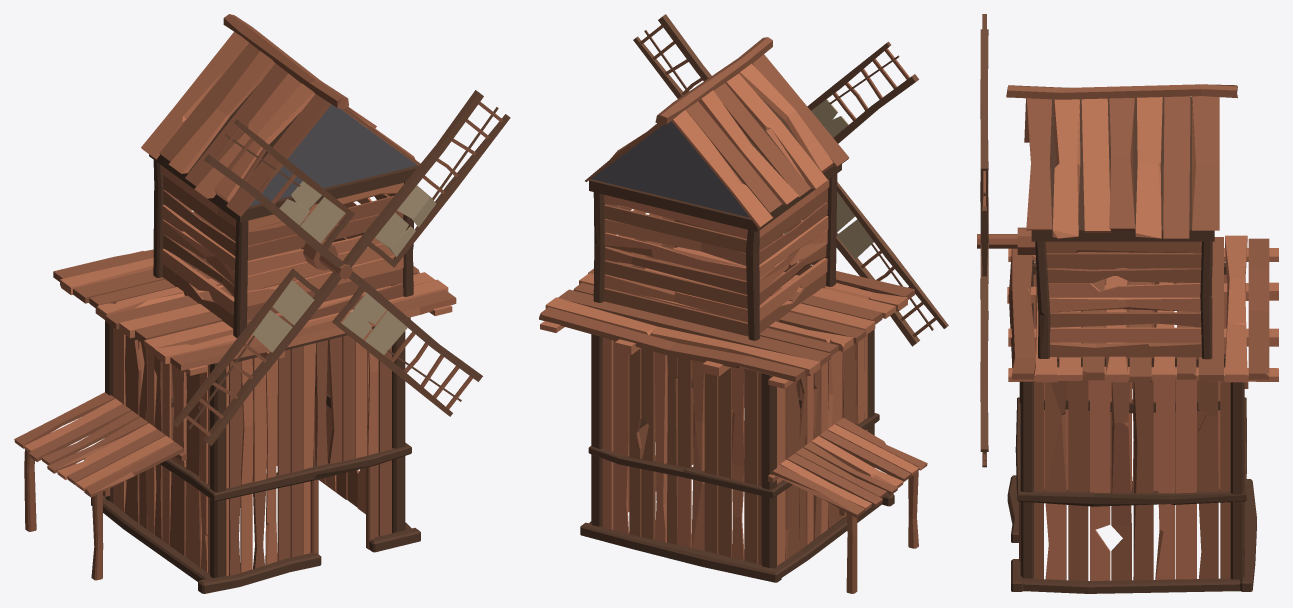
Rendered from Windmill.fbx.
3 views of the same model, side by side, from view 1: azimuth 30°, elevation 25°; view 2: azimuth 150°, elevation 25°; view 3: azimuth 270°, elevation 25° (orthographic). The views are drawn at different scales.
Visible parts, largest first — view 1: Windmill, Windmill Turbine; view 2: Windmill, Windmill Turbine; view 3: Windmill, Windmill Turbine.
Part boxes in pixels (bbox=[...]): Windmill: bbox=[14, 14, 456, 593]; Windmill Turbine: bbox=[172, 90, 510, 446]; Windmill: bbox=[539, 37, 927, 593]; Windmill Turbine: bbox=[633, 14, 948, 346]; Windmill: bbox=[1006, 84, 1278, 593]; Windmill Turbine: bbox=[977, 14, 1035, 467].
Bounding box in the file's own units: 10.17 × 12.57 × 7.14.
